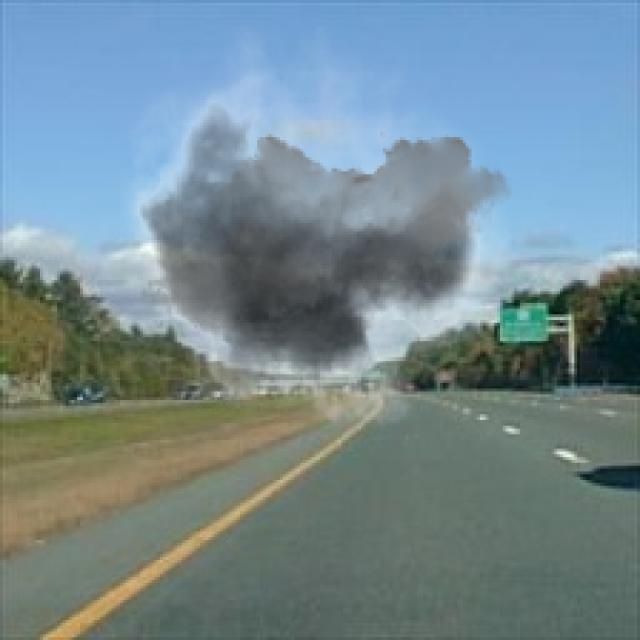smoke: (106, 23, 511, 446)
